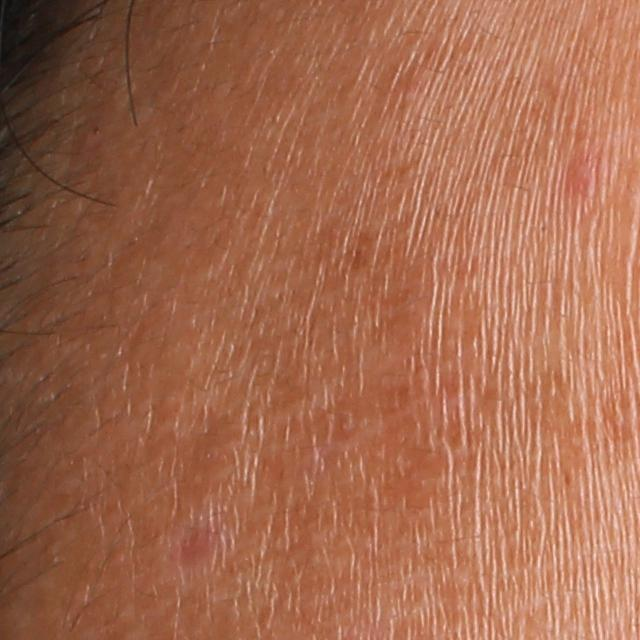papule: (565, 158, 608, 198)
